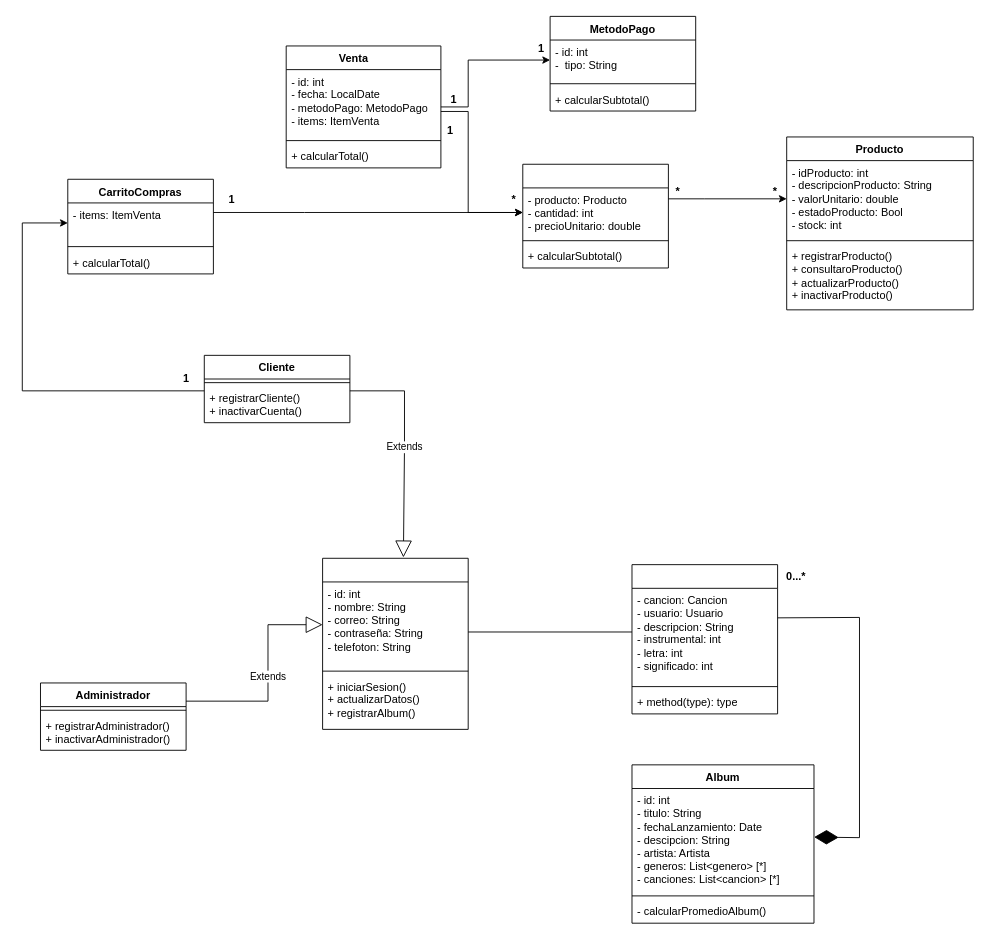
Some shapes in this 989 by 941 pixel diagram are drawn without their labels. Each missing label, with the box of its shape:
ItemVenta: (522, 163, 668, 268)
Puntuacion: (631, 564, 778, 714)
Usuario: (322, 557, 468, 729)
